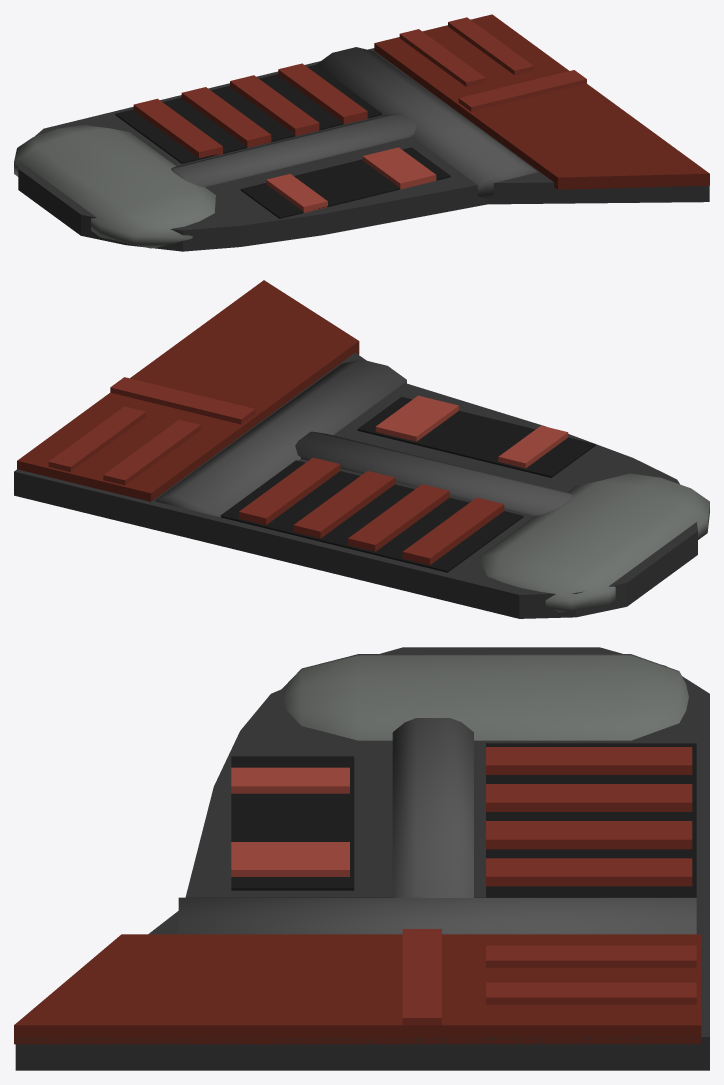
File: newshi-237.glb
3 views of the same model, one above another, from view 1: azimuth 30°, elevation 25°; view 2: azimuth 150°, elevation 25°; view 3: azimuth 270°, elevation 25° (orthographic). The views are drawn at different scales.
Visible parts, largest first — view 1: newshi-237; view 2: newshi-237; view 3: newshi-237.
Part boxes in pixels (x1,y1,x2,y2): newshi-237: (14, 14, 709, 251); newshi-237: (14, 280, 709, 618); newshi-237: (14, 647, 709, 1070).
Size of the model in its own units: 1.75 by 0.13 by 1.32.
